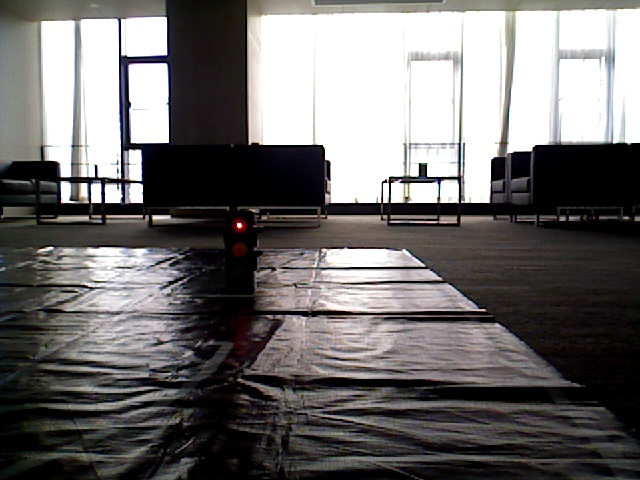red: (230, 209, 252, 285)
